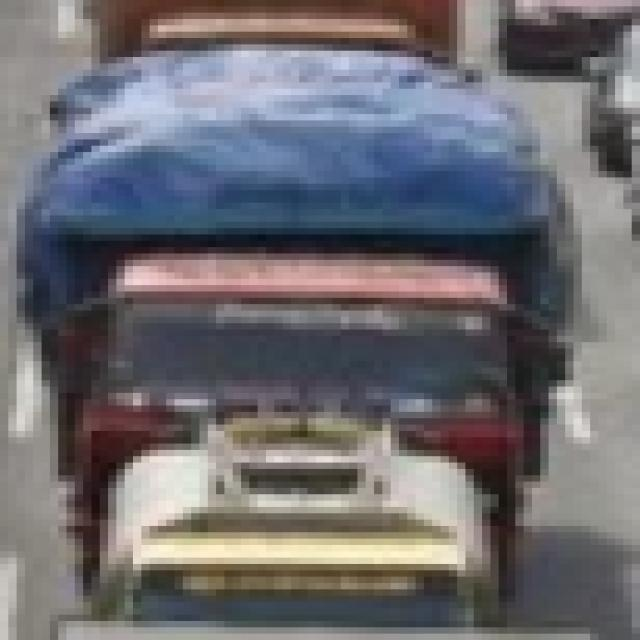truck: (56, 62, 574, 456)
